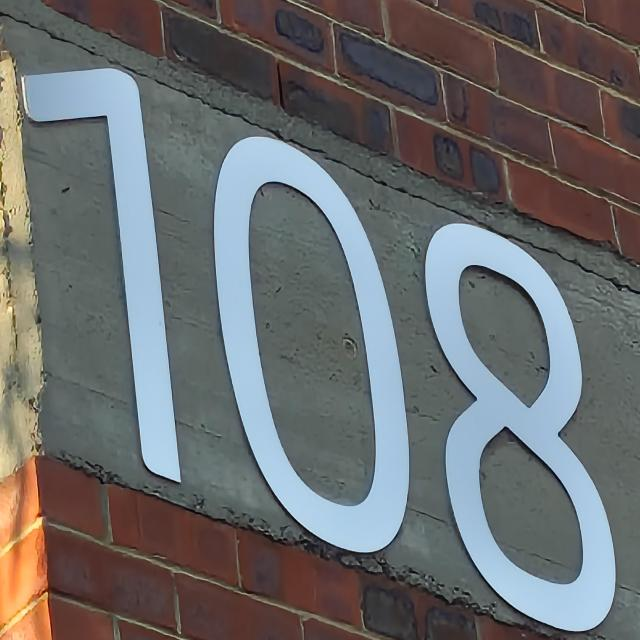character: (210, 131, 415, 558), (421, 219, 621, 636), (19, 63, 189, 489)
